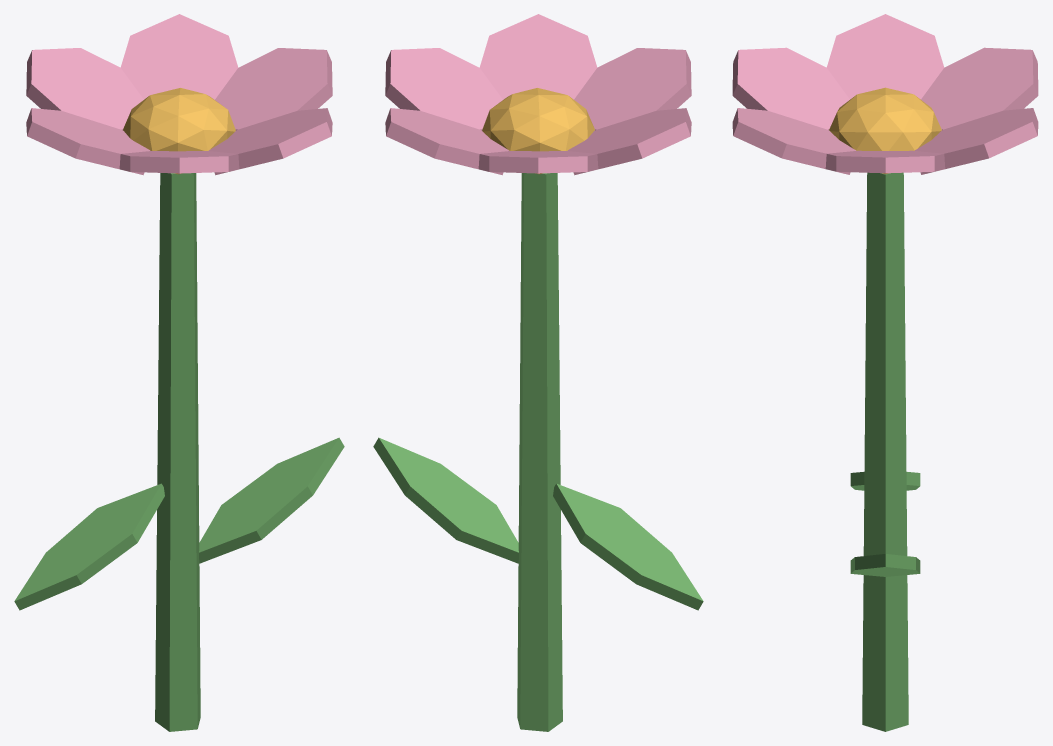
File: deco_flower_purple.obj
3 views of the same model, side by side, from view 1: azimuth 30°, elevation 25°; view 2: azimuth 150°, elevation 25°; view 3: azimuth 270°, elevation 25° (orthographic).
Parts seen in each view (by area): view 1: deco_flower_purple; view 2: deco_flower_purple; view 3: deco_flower_purple.
Part boxes in pixels (x1=…): deco_flower_purple: x1=14, y1=14, x2=344, y2=731; deco_flower_purple: x1=373, y1=14, x2=703, y2=731; deco_flower_purple: x1=732, y1=14, x2=1038, y2=731.
Bounding box in the file's own units: 0.0436 × 0.0802 × 0.035.
1 material, 1 textured.
